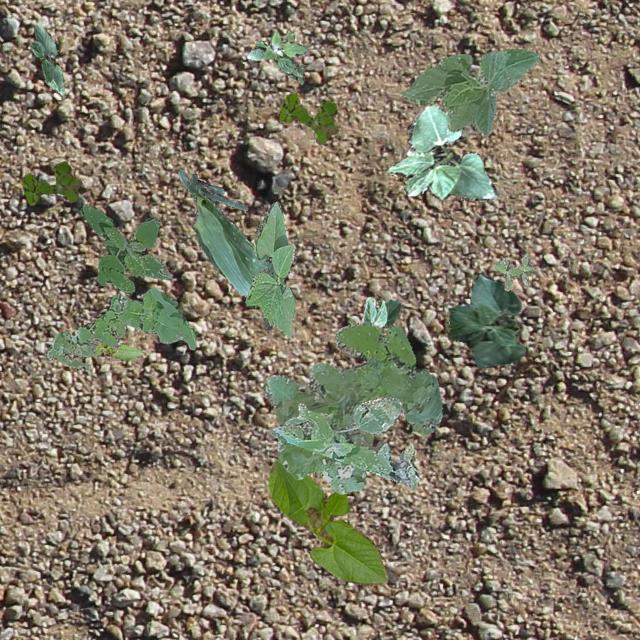crop: (268, 458, 387, 586), (177, 168, 270, 296), (400, 48, 538, 134), (384, 102, 496, 200), (446, 272, 524, 366), (244, 200, 294, 338), (28, 24, 64, 94), (358, 296, 401, 326), (88, 342, 142, 358)
weed: (263, 323, 442, 492), (270, 397, 418, 488), (44, 286, 194, 369), (80, 205, 170, 292), (246, 31, 306, 84), (278, 91, 338, 142), (22, 160, 82, 204), (492, 250, 534, 290)
